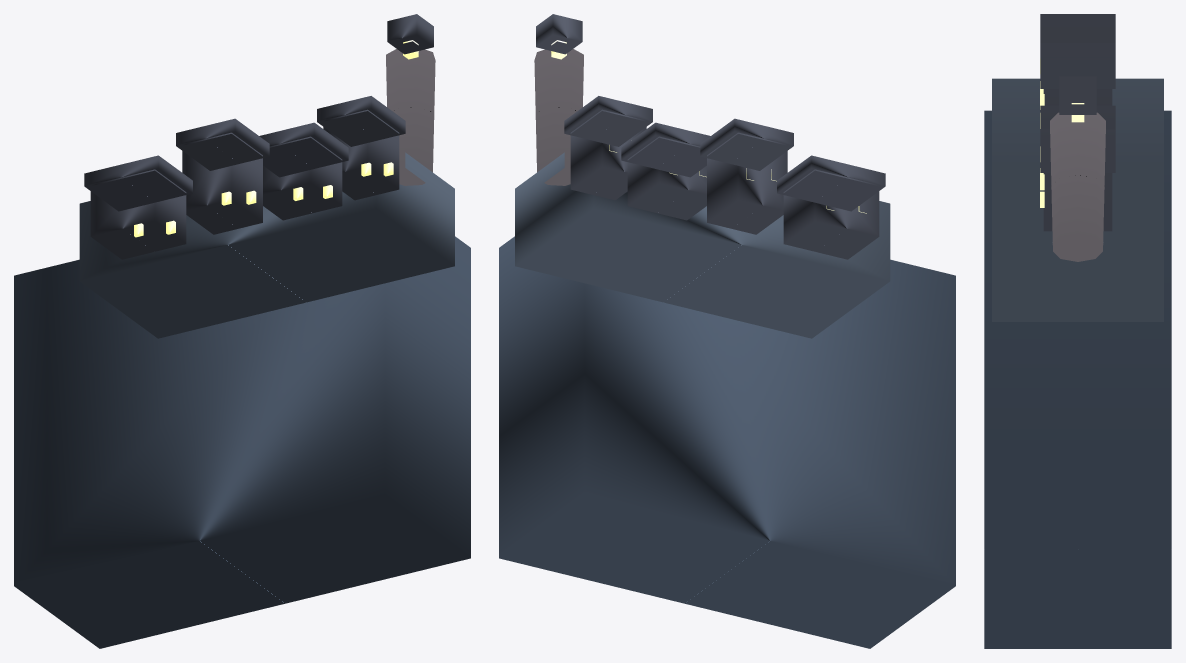
Rendered from bg_village.glb.
3 renders of one model, left to right at view 1: azimuth 30°, elevation 25°; view 2: azimuth 150°, elevation 25°; view 3: azimuth 270°, elevation 25°, orthographic. The views are drawn at different scales.
Size of the model in its own units: 152 by 196 by 60.
